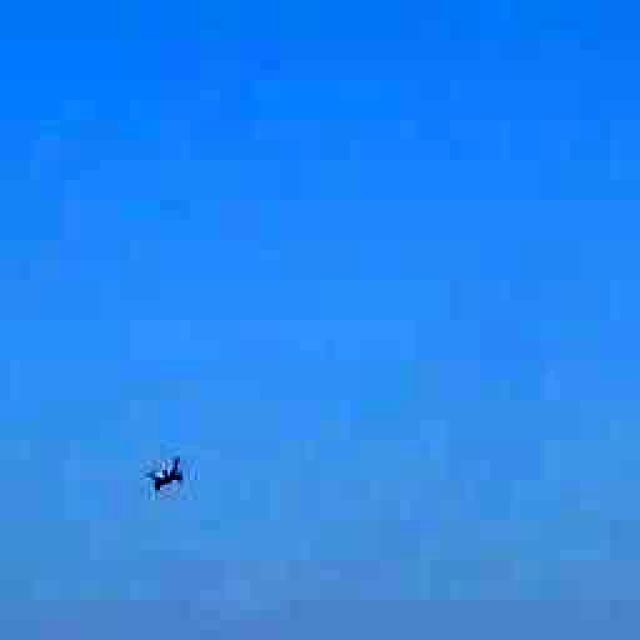bird: (125, 434, 215, 526)
